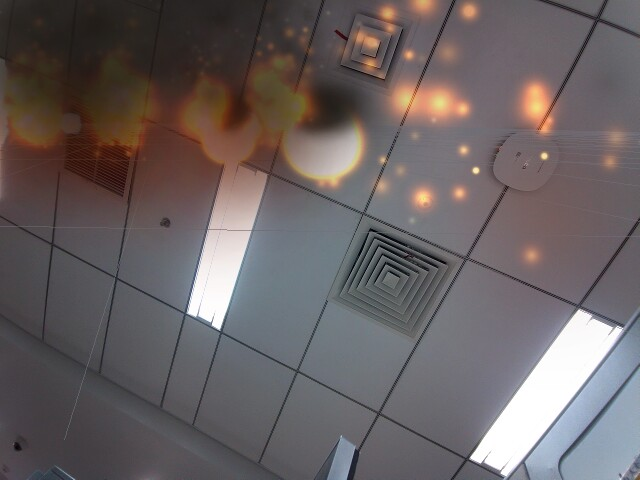fire: (280, 97, 367, 183), (199, 102, 263, 168), (13, 98, 61, 147)
